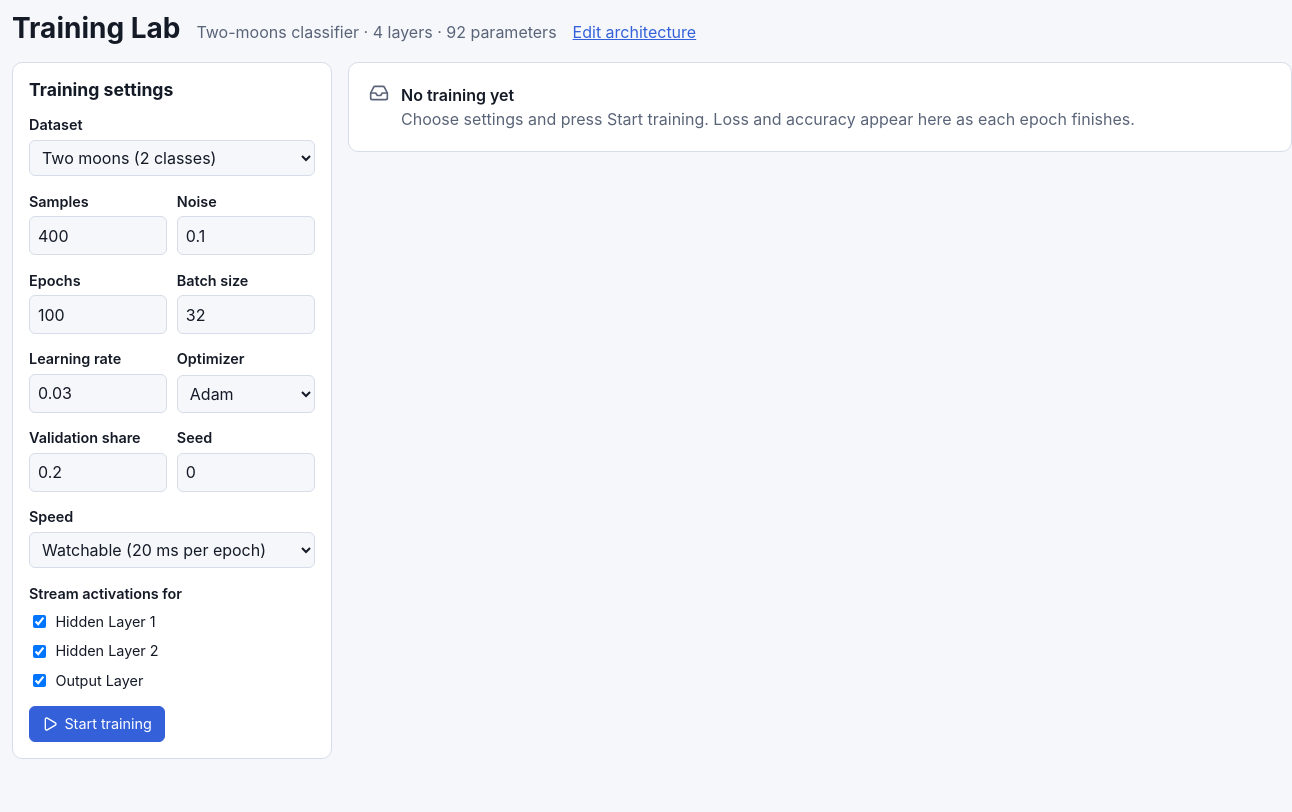
Test case: Training Lab › shows server errors when starting fails
Click the button "Start training" at [97, 724], box [29, 706, 165, 742]
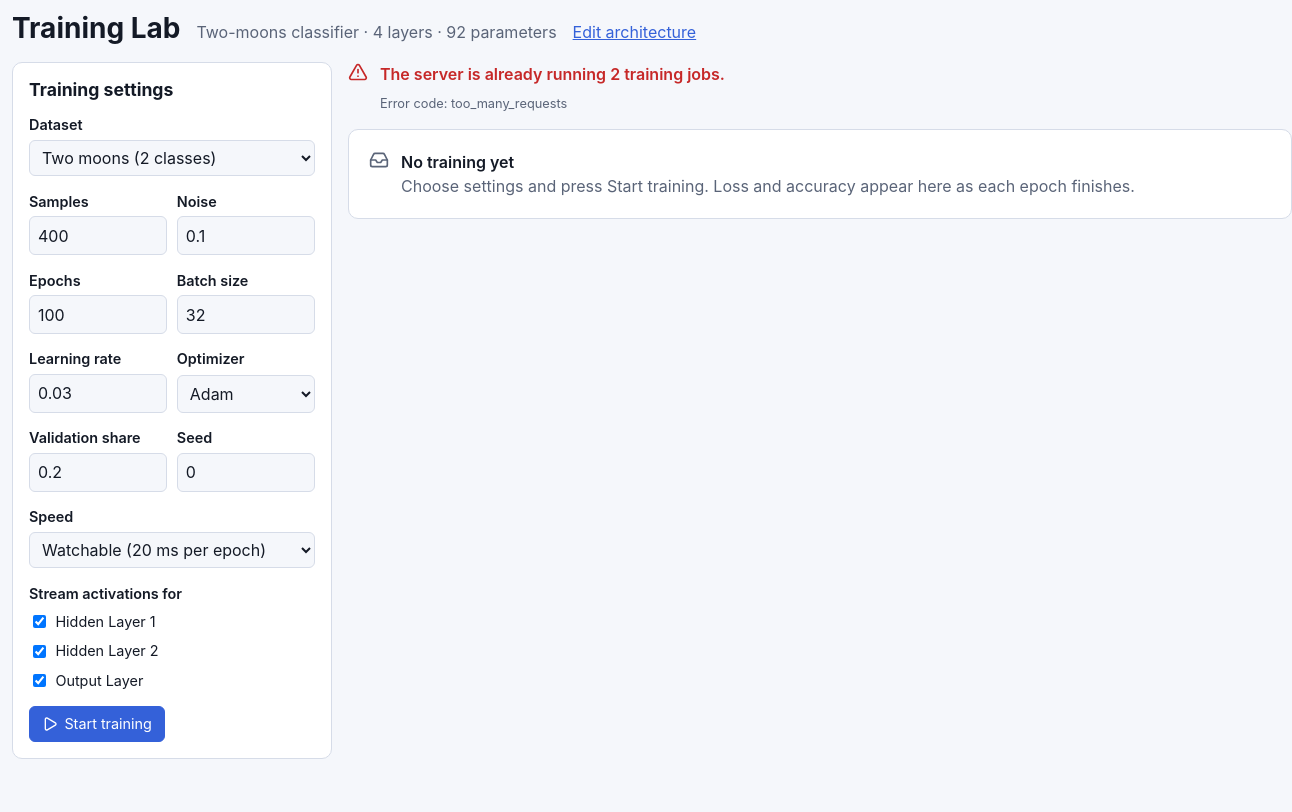
Result: the message shows "already running 2 training jobs" at [380, 64, 725, 84]
